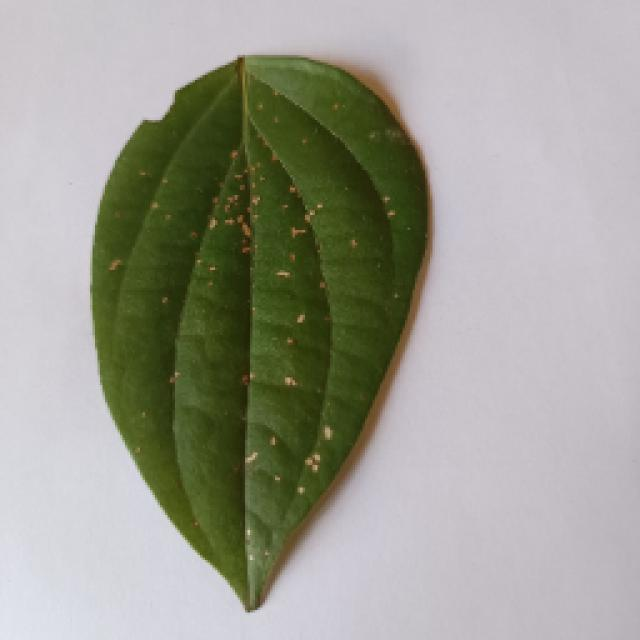pollu-disease: (72, 57, 442, 605)
